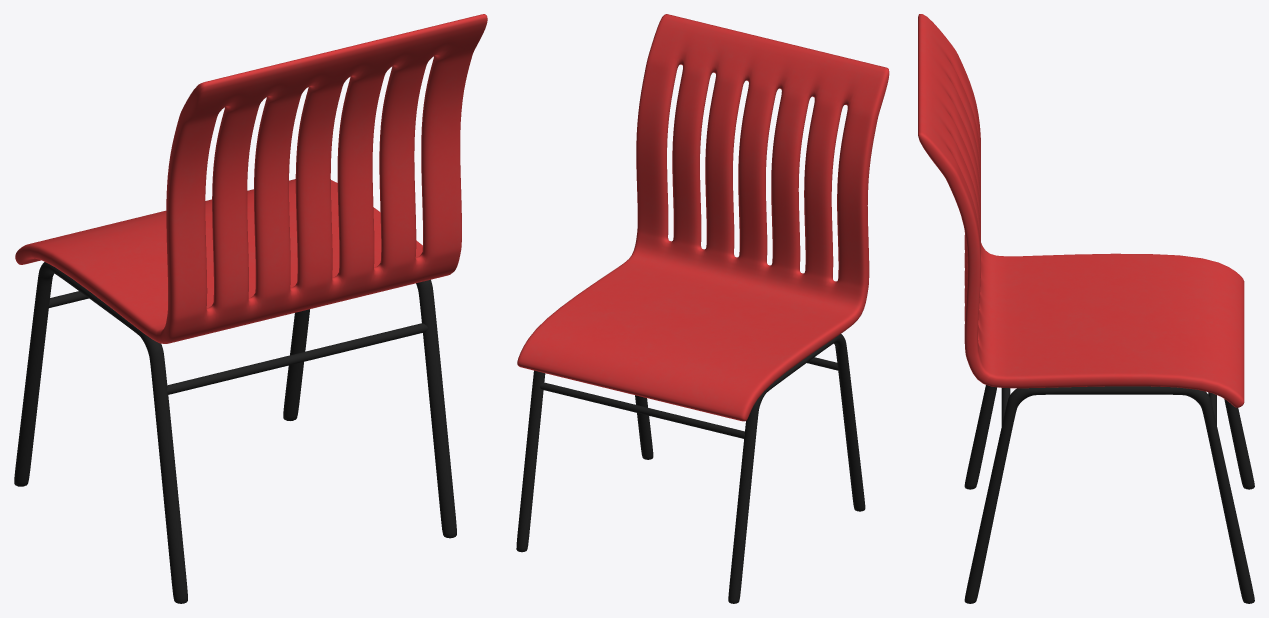
The model's file is Chair28.fbx.
3 views of the same model, side by side, from view 1: azimuth 30°, elevation 25°; view 2: azimuth 150°, elevation 25°; view 3: azimuth 270°, elevation 25° (orthographic). The views are drawn at different scales.
Visible parts, largest first — view 1: Chair28; view 2: Chair28; view 3: Chair28.
Part boxes in pixels (x1,y1,x2,y2): Chair28: (14,14,487,603); Chair28: (516,14,889,603); Chair28: (918,14,1254,603).
Bounding box in the file's own units: 50.87 × 90.6 × 58.69.
